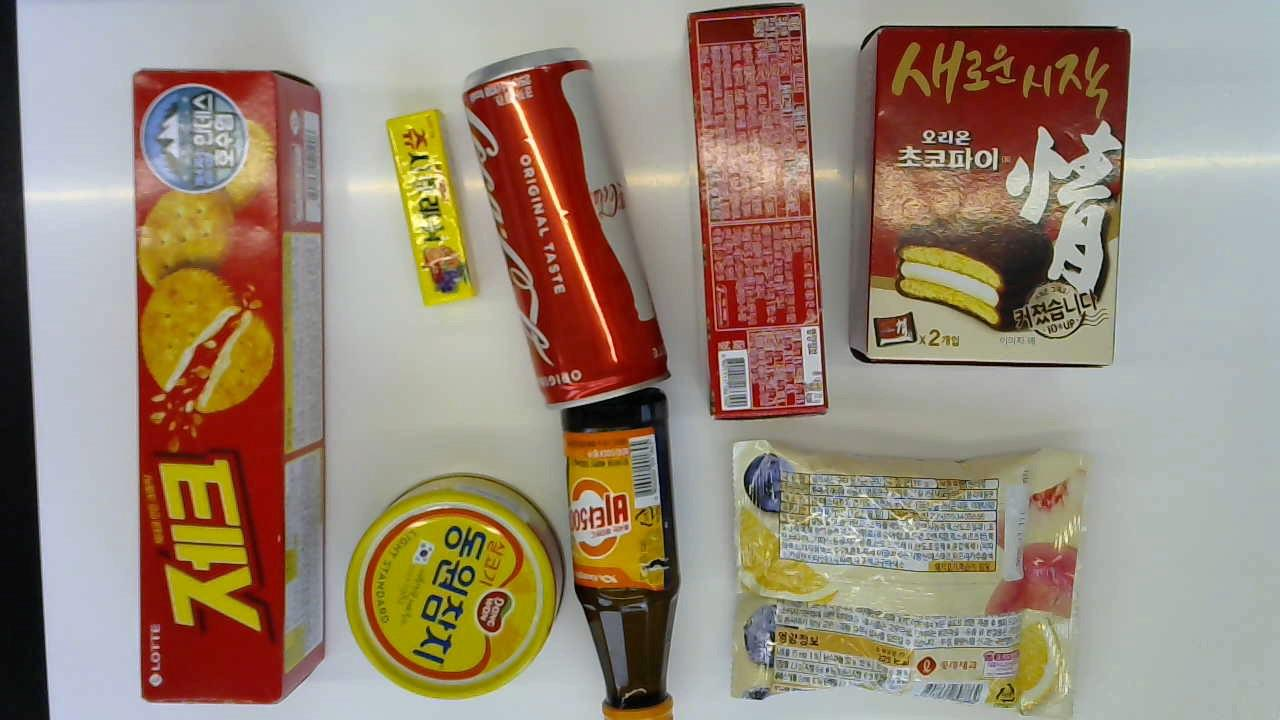chocopie: (848, 24, 1133, 369)
coke: (460, 46, 670, 410)
couque_white: (686, 0, 831, 423)
gumi_gumi: (732, 438, 1089, 717)
juicyfresh: (386, 109, 476, 307)
tuna: (347, 472, 567, 694)
vita500: (562, 392, 683, 717)
zec: (133, 64, 326, 703)
